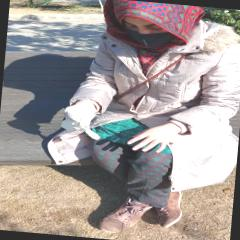gloved: (64, 100, 98, 130)
not-gloved: (130, 120, 177, 154)
